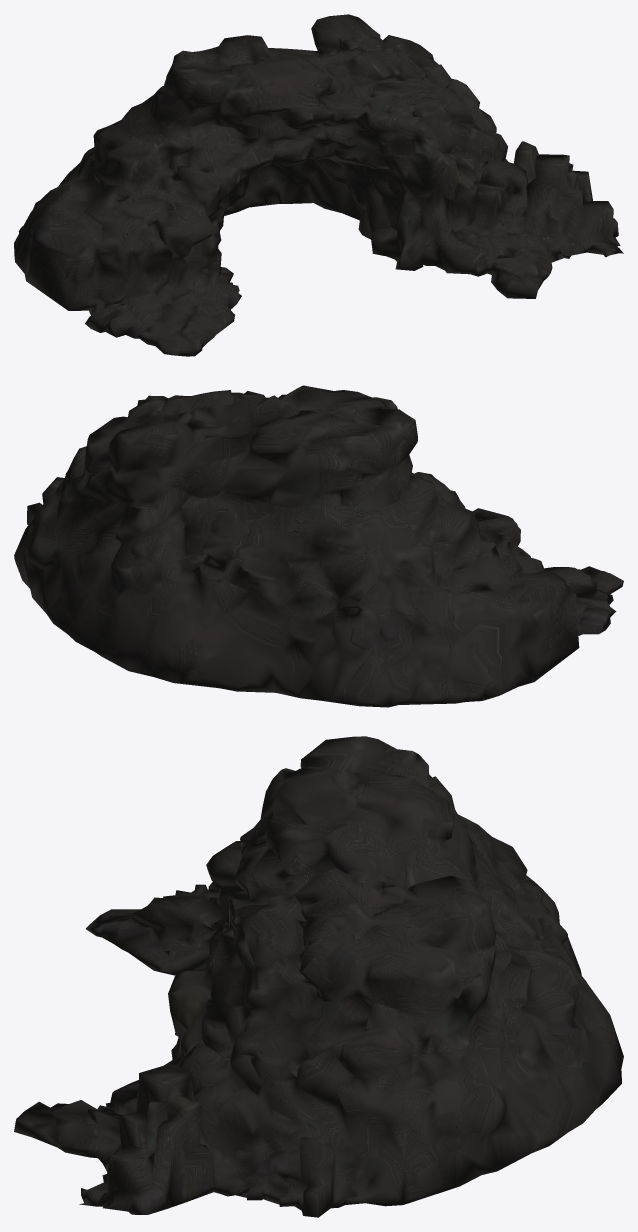
The model's file is Basalt_Arch.glb.
3 renders of one model, top to bottom at view 1: azimuth 30°, elevation 25°; view 2: azimuth 150°, elevation 25°; view 3: azimuth 270°, elevation 25°, orthographic. The views are drawn at different scales.
Parts seen in each view (by area): view 1: Basalt_Arch; view 2: Basalt_Arch; view 3: Basalt_Arch.
Part boxes in pixels (x1,y1,x2,y2): Basalt_Arch: [14, 14, 623, 356]; Basalt_Arch: [14, 385, 623, 707]; Basalt_Arch: [14, 736, 623, 1217].
Size of the model in its own units: 1.89 by 0.6876 by 1.51.
Materials: 1 (1 with a texture image).
